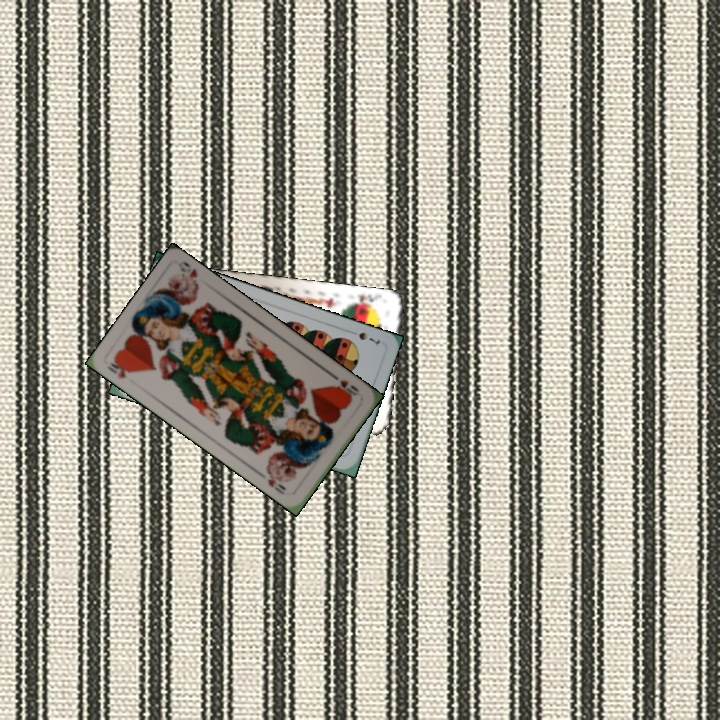HO: (327, 370, 362, 402), (103, 355, 135, 381)
S7: (344, 326, 383, 347)
SK: (347, 290, 382, 310)
